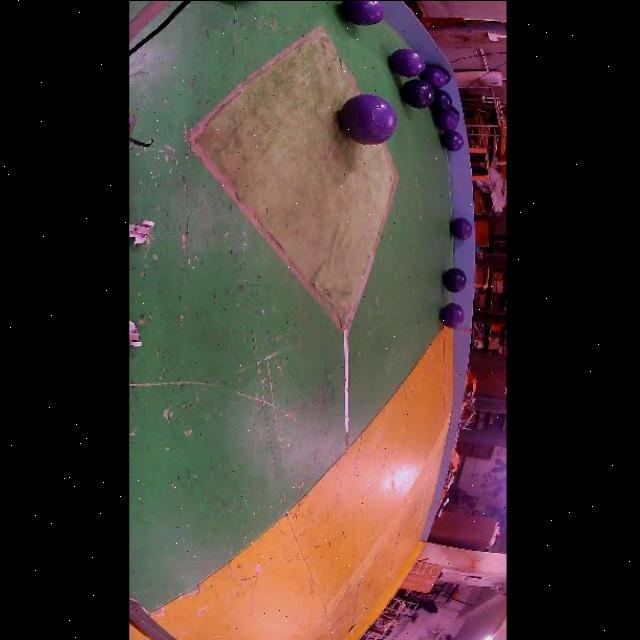B: (400, 78, 434, 108), (442, 266, 466, 291), (431, 88, 451, 110), (449, 105, 459, 120)
P: (339, 93, 396, 145), (340, 0, 385, 25), (389, 47, 424, 76), (441, 302, 465, 327), (420, 66, 446, 88), (434, 109, 458, 131), (450, 217, 472, 239), (441, 130, 463, 151)
